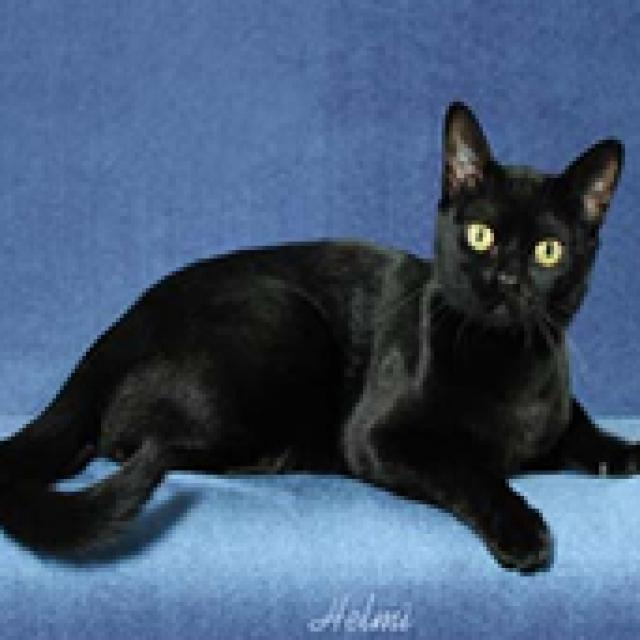Bombay: (0, 93, 640, 581)
